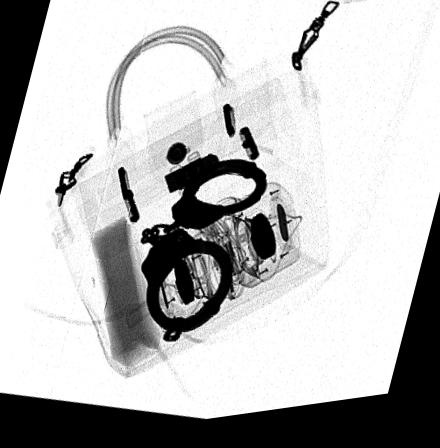HandCuffs: (138, 166, 267, 337)
